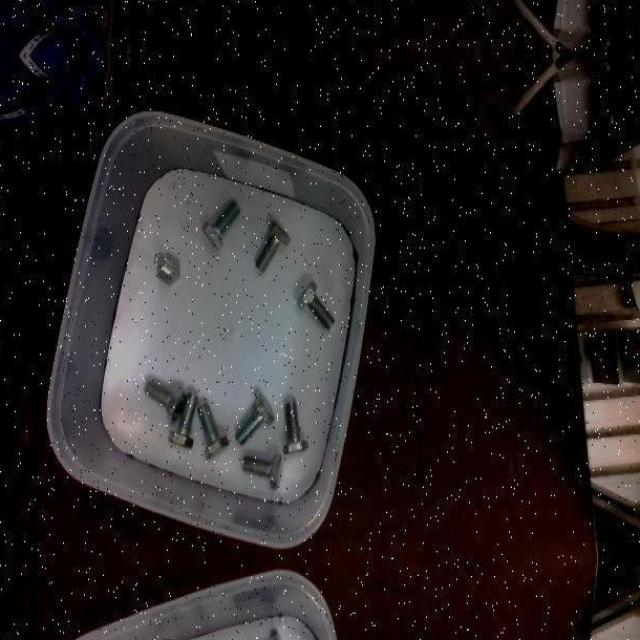screw: (235, 394, 275, 445), (202, 200, 240, 251), (255, 220, 291, 272), (298, 280, 336, 329), (197, 403, 230, 459), (145, 378, 187, 421), (168, 390, 198, 448), (242, 454, 284, 489), (284, 400, 310, 452), (154, 252, 180, 285), (242, 628, 284, 640)
